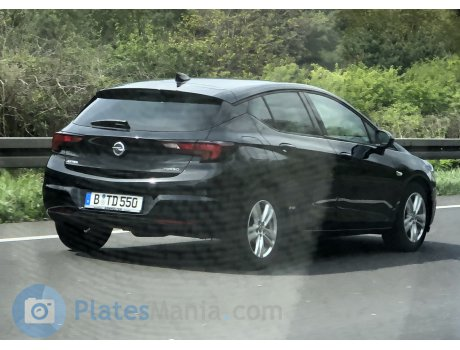License Plates: (90, 189, 144, 209)
